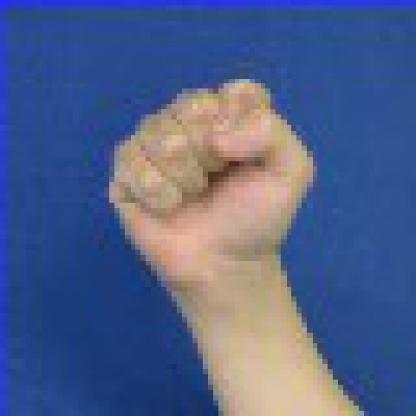zero: (90, 63, 332, 291)
